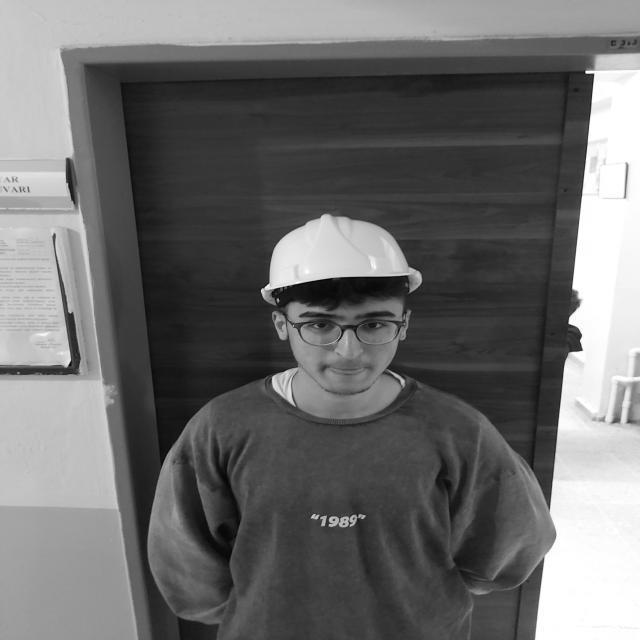safety_helmet: (266, 215, 423, 291)
